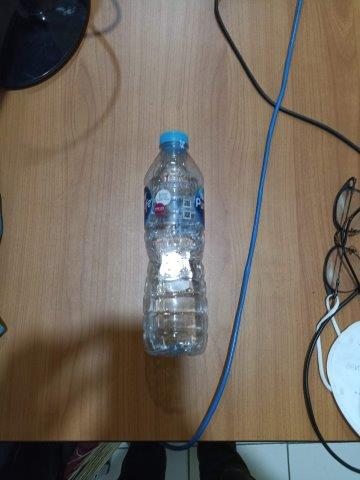botolplastik: (145, 132, 208, 356)
